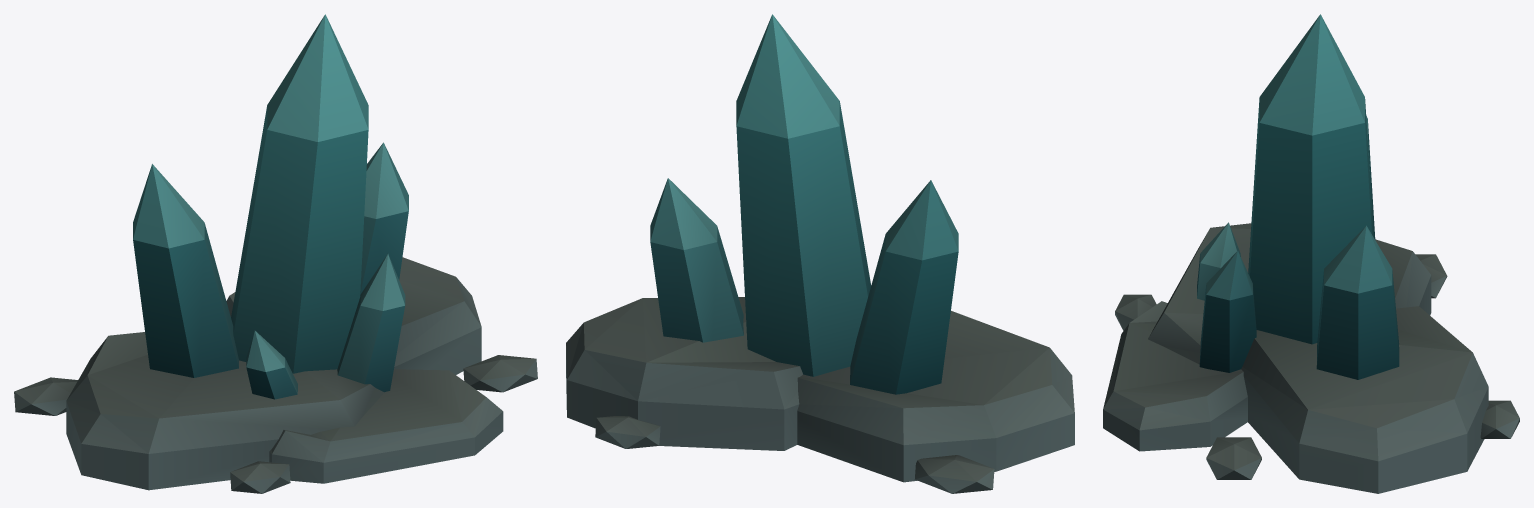
File: skyreach-gale-deposit-v1.glb
3 renders of one model, left to right at view 1: azimuth 30°, elevation 25°; view 2: azimuth 150°, elevation 25°; view 3: azimuth 270°, elevation 25°, orthographic. The views are drawn at different scales.
Visible parts, largest first — view 1: GB_GALE_CRYSTAL, GB_GALE_STONE; view 2: GB_GALE_CRYSTAL, GB_GALE_STONE; view 3: GB_GALE_STONE, GB_GALE_CRYSTAL.
Boxes of the visible parts, box(x1,y1,x2,y2) form: GB_GALE_CRYSTAL: box(133, 14, 408, 399); GB_GALE_STONE: box(14, 257, 537, 493); GB_GALE_CRYSTAL: box(650, 14, 958, 394); GB_GALE_STONE: box(566, 297, 1074, 493); GB_GALE_STONE: box(1103, 223, 1519, 493); GB_GALE_CRYSTAL: box(1197, 14, 1399, 379).
Size of the model in its own units: 1.16 by 0.94 by 0.9075.
